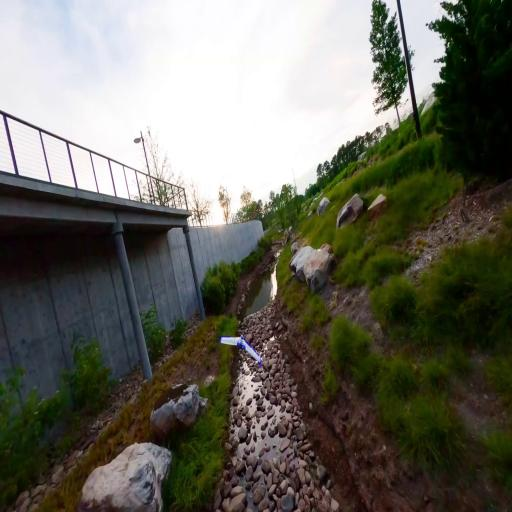uav: (217, 330, 265, 370)
